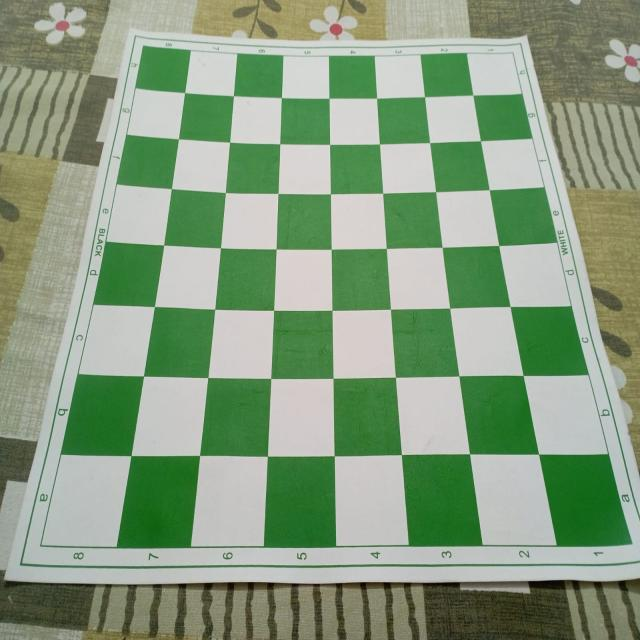square: (540, 454, 633, 547), (41, 455, 132, 548), (470, 454, 557, 546), (117, 456, 200, 548), (403, 454, 483, 546), (191, 456, 269, 548), (61, 374, 144, 458), (524, 374, 609, 455), (335, 455, 409, 547), (264, 456, 337, 547), (460, 376, 539, 454), (132, 377, 209, 457), (395, 376, 470, 455), (200, 378, 271, 457), (510, 306, 589, 376), (78, 305, 155, 376), (334, 378, 402, 456), (268, 379, 335, 457), (450, 307, 524, 377), (144, 307, 215, 378), (391, 308, 460, 378), (93, 241, 164, 307), (499, 242, 571, 307), (209, 310, 274, 379), (155, 245, 222, 310), (442, 246, 511, 309), (333, 310, 396, 379), (271, 311, 334, 379), (106, 184, 172, 246), (386, 247, 450, 310), (490, 187, 557, 246), (215, 249, 277, 311), (274, 249, 333, 311), (332, 249, 391, 311), (164, 190, 225, 249), (436, 191, 499, 248), (116, 135, 179, 189), (383, 192, 443, 248), (481, 138, 544, 190), (221, 194, 279, 249), (172, 139, 231, 193), (331, 194, 387, 250), (126, 89, 186, 140), (277, 194, 332, 249), (431, 142, 490, 193), (473, 93, 532, 142), (380, 143, 436, 194), (226, 143, 280, 194), (179, 93, 234, 143), (135, 46, 191, 94), (330, 144, 383, 194), (425, 96, 481, 143), (279, 144, 330, 195), (230, 96, 282, 145), (377, 97, 430, 144), (185, 51, 238, 96), (467, 53, 522, 96), (330, 99, 380, 146), (420, 54, 473, 98), (281, 98, 330, 145), (234, 54, 284, 98), (375, 55, 425, 99), (282, 55, 329, 99), (329, 56, 377, 99)
